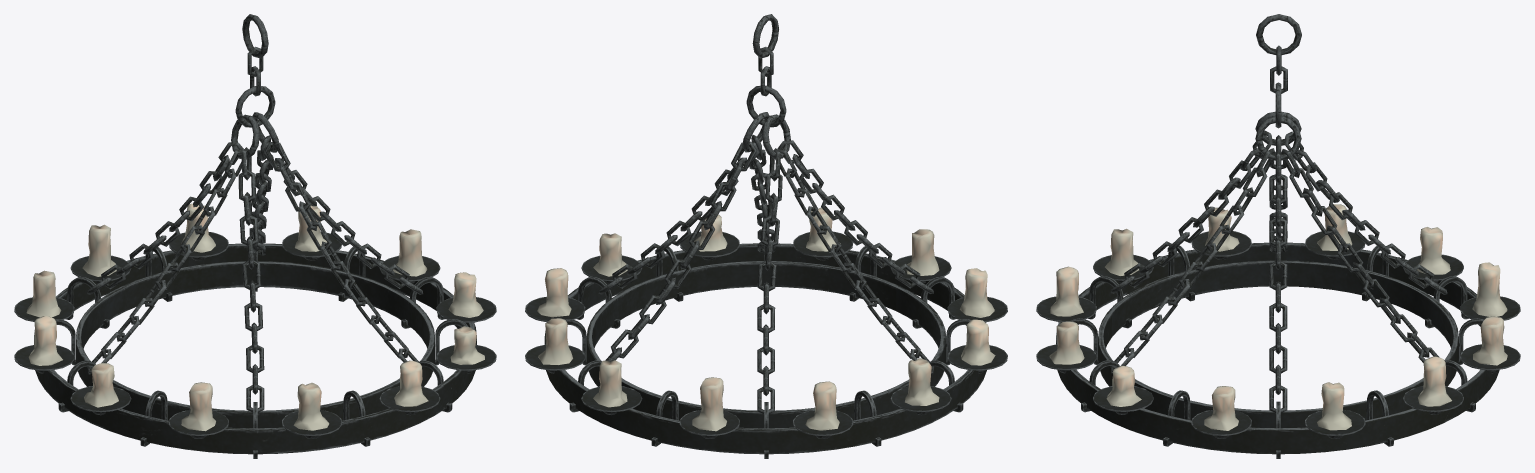
Rendered from chandelier_1.fbx.
3 views of the same model, side by side, from view 1: azimuth 30°, elevation 25°; view 2: azimuth 150°, elevation 25°; view 3: azimuth 270°, elevation 25° (orthographic).
Parts seen in each view (by area): view 1: chandelier; view 2: chandelier; view 3: chandelier.
Part boxes in pixels (left/top/right/bottom): chandelier: left=14, top=14, right=496, bottom=458; chandelier: left=525, top=14, right=1007, bottom=458; chandelier: left=1036, top=14, right=1520, bottom=458.
Size of the model in its own units: 2.17 by 1.73 by 2.17.
1 material, 1 textured.
